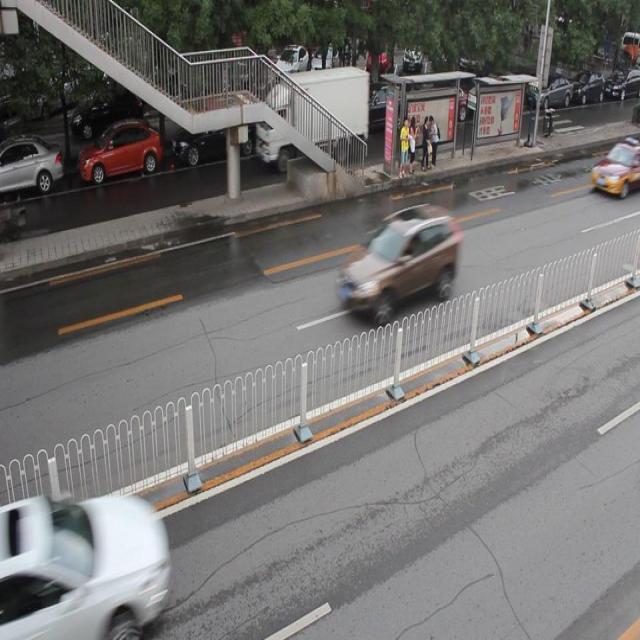bus: (253, 67, 369, 164)
car: (0, 496, 170, 640), (336, 205, 457, 320), (173, 106, 266, 170), (80, 121, 162, 184), (268, 84, 333, 148), (1, 137, 65, 198), (341, 81, 408, 138), (590, 132, 640, 202)
